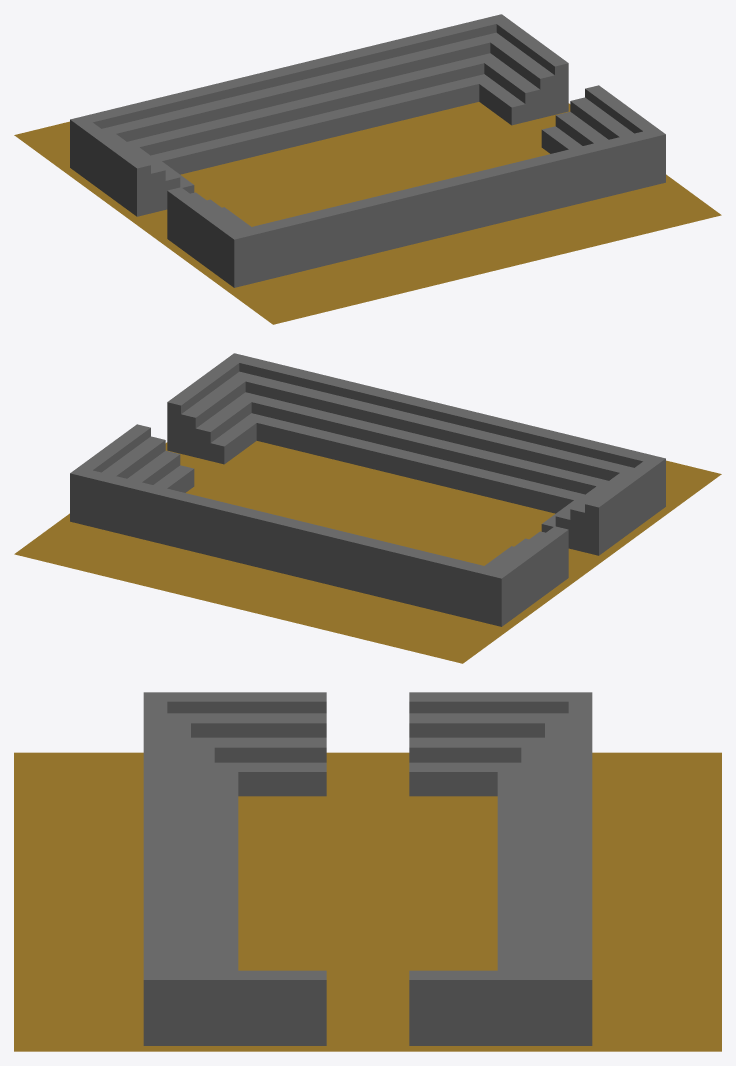
The model's file is Arena.fbx.
3 renders of one model, top to bottom at view 1: azimuth 30°, elevation 25°; view 2: azimuth 150°, elevation 25°; view 3: azimuth 270°, elevation 25°, orthographic. The views are drawn at different scales.
Visible parts, largest first — view 1: Cube, Plane, Cube.001; view 2: Cube, Plane, Cube.001; view 3: Plane, Cube.001, Cube.
Part boxes in pixels (x1,y1,x2,y2): Cube: [84, 17, 651, 284]; Plane: [14, 102, 721, 324]; Cube.001: [70, 14, 665, 287]; Cube: [84, 356, 651, 623]; Plane: [14, 441, 721, 663]; Cube.001: [70, 353, 665, 626]; Plane: [14, 752, 721, 1051]; Cube.001: [143, 692, 592, 1045]; Cube: [143, 701, 592, 970].
Bounding box in the file's own units: 5988 × 617 × 5988.
